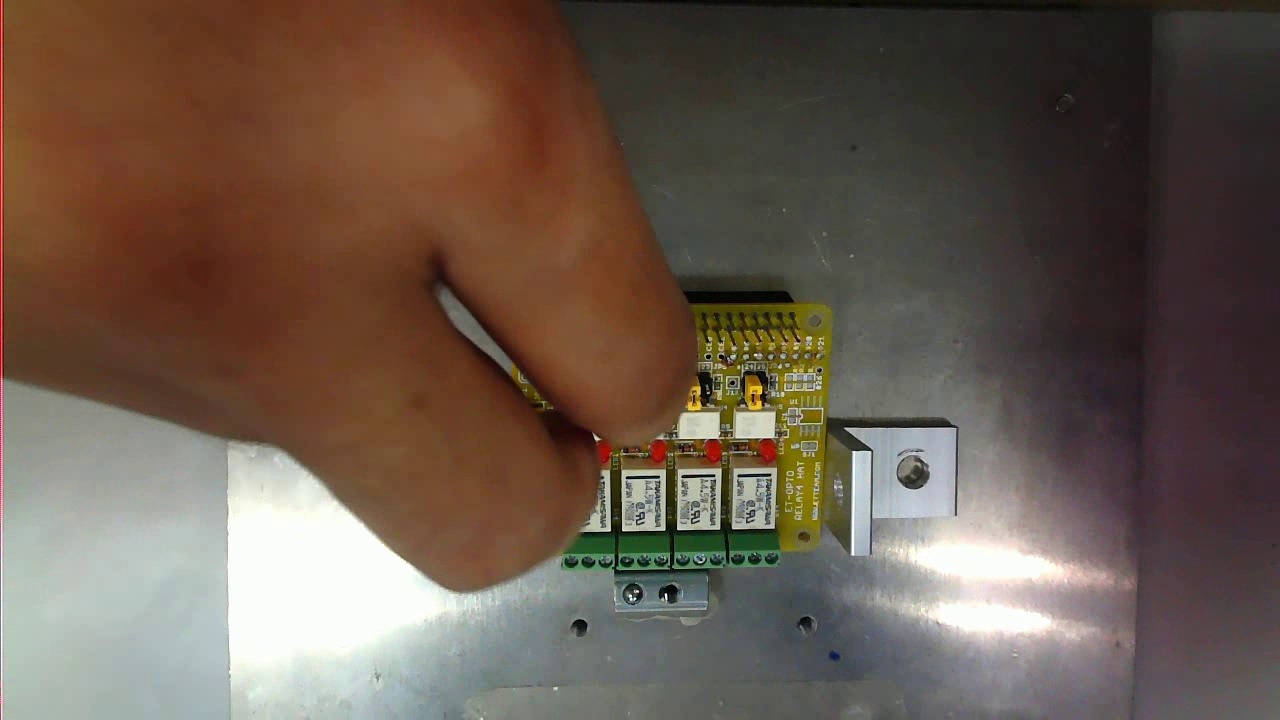can: (560, 295, 831, 570)
